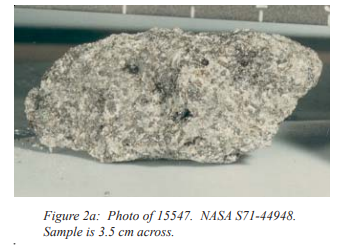Basalt: (22, 16, 322, 161)
